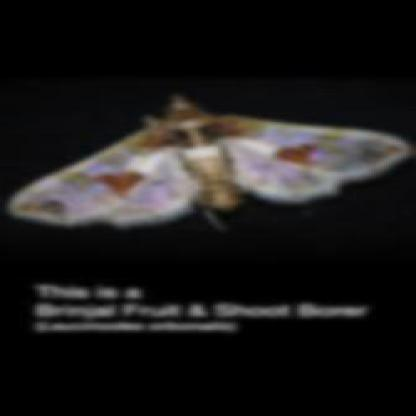leucinodes: (12, 97, 410, 226)
